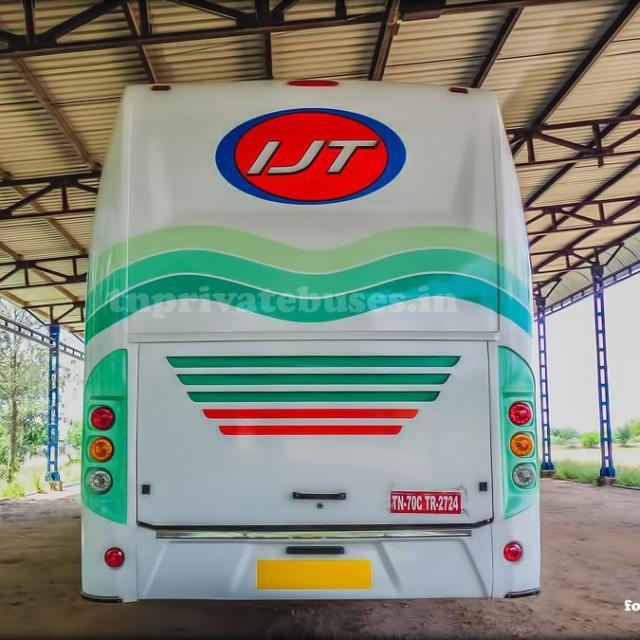Bus: (74, 70, 554, 614)
